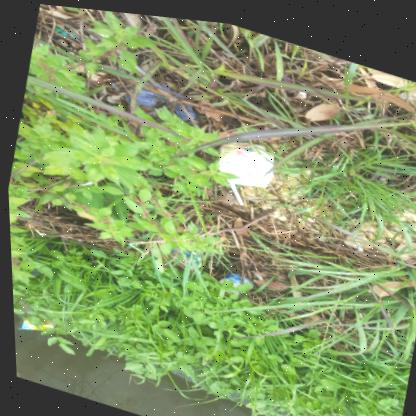Paper: (216, 137, 272, 181)
Plastic: (123, 78, 196, 117), (14, 307, 53, 329), (215, 267, 251, 289), (228, 175, 242, 200)
Waste: (215, 274, 238, 290)
